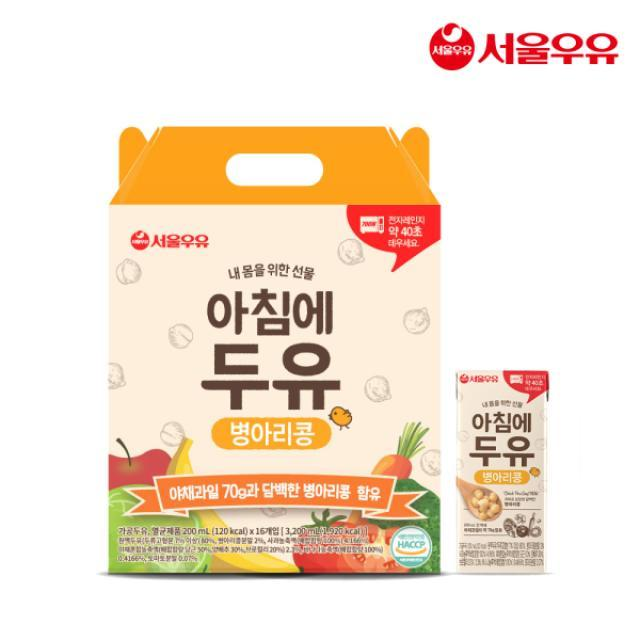Tetra: (446, 358, 564, 590)
